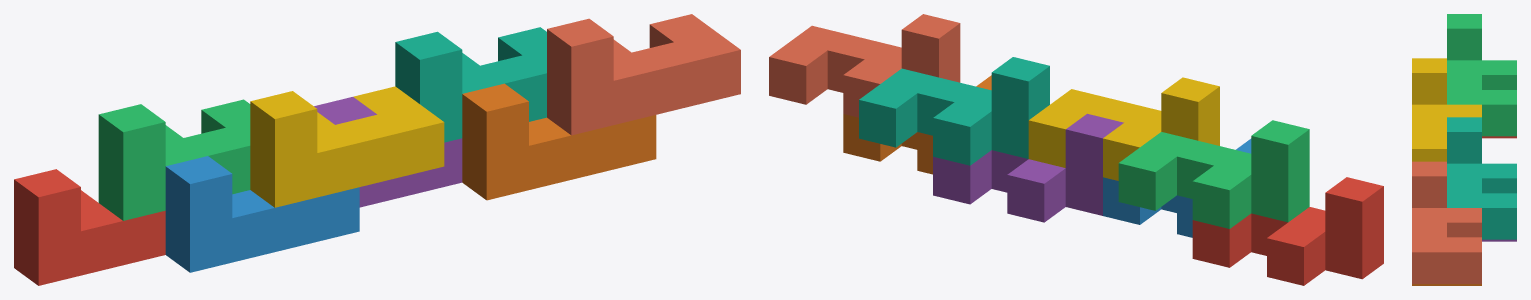
Rendered from tiling.obj.
3 views of the same model, side by side, from view 1: azimuth 30°, elevation 25°; view 2: azimuth 150°, elevation 25°; view 3: azimuth 270°, elevation 25° (orthographic). The views are drawn at different scales.
Parts seen in each view (by area): view 1: copy_1_domain_8, copy_1_domain_4, copy_1_domain_2, copy_1_domain_6, copy_1_domain_1, copy_1_domain_3, copy_1_domain_7, copy_1_domain_5; view 2: copy_1_domain_3, copy_1_domain_7, copy_1_domain_1, copy_1_domain_8, copy_1_domain_5, copy_1_domain_4, copy_1_domain_2, copy_1_domain_6; view 3: copy_1_domain_8, copy_1_domain_3, copy_1_domain_7, copy_1_domain_4, copy_1_domain_6, copy_1_domain_1, copy_1_domain_5.
Boxes of the visible parts, x1,y1,x2,y2 form: copy_1_domain_8: [547, 14, 740, 135]; copy_1_domain_4: [250, 86, 444, 207]; copy_1_domain_2: [165, 156, 359, 272]; copy_1_domain_6: [462, 83, 656, 200]; copy_1_domain_1: [14, 169, 165, 285]; copy_1_domain_3: [98, 99, 250, 220]; copy_1_domain_7: [395, 27, 546, 142]; copy_1_domain_5: [314, 97, 462, 207]; copy_1_domain_3: [1118, 120, 1309, 228]; copy_1_domain_7: [859, 57, 1049, 165]; copy_1_domain_1: [1192, 177, 1383, 285]; copy_1_domain_8: [769, 14, 960, 117]; copy_1_domain_5: [933, 113, 1123, 222]; copy_1_domain_4: [1028, 77, 1219, 180]; copy_1_domain_2: [1103, 138, 1251, 237]; copy_1_domain_6: [843, 75, 991, 174]; copy_1_domain_8: [1412, 161, 1481, 283]; copy_1_domain_3: [1447, 14, 1516, 136]; copy_1_domain_7: [1447, 117, 1516, 239]; copy_1_domain_4: [1412, 58, 1481, 161]; copy_1_domain_6: [1412, 284, 1481, 285]; copy_1_domain_1: [1482, 136, 1516, 138]; copy_1_domain_5: [1482, 239, 1516, 241].
Size of the model in its own units: 16 by 3 by 3.
